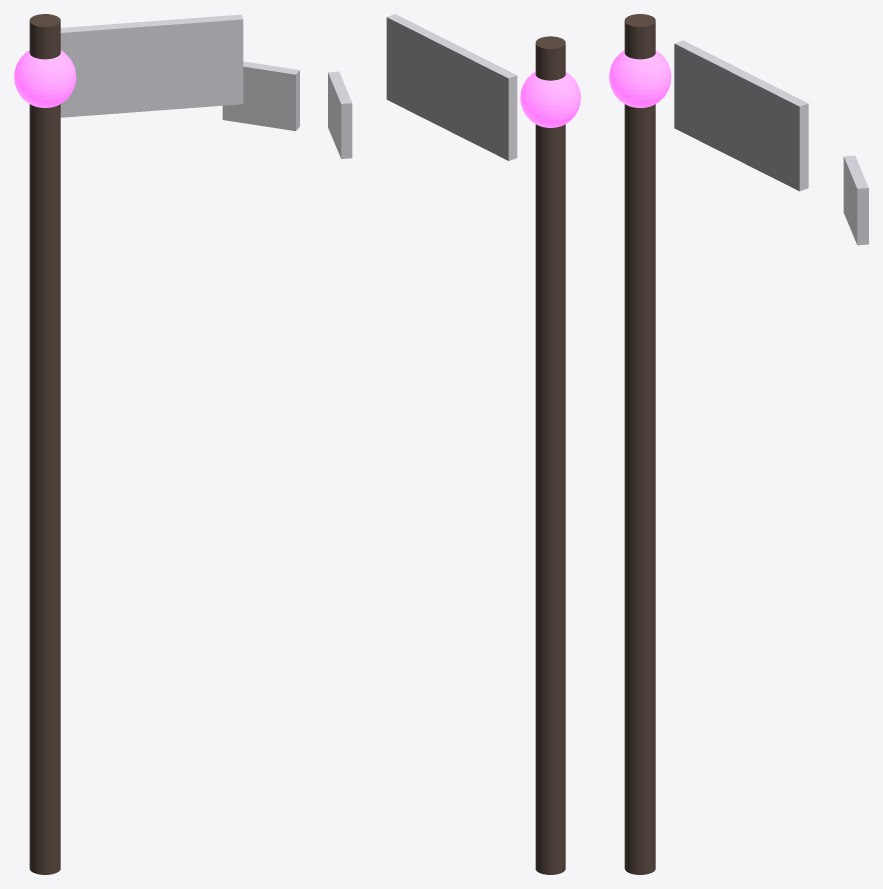
File: scythe.glb
The picture shows the model from 3 angles, left to right: view 1: azimuth 30°, elevation 25°; view 2: azimuth 150°, elevation 25°; view 3: azimuth 330°, elevation 25°; orthographic projection. The views are drawn at different scales.
Visible parts, largest first — view 1: Handle, Blade, BladeTip, GlowOrb; view 2: Handle, Blade, GlowOrb, BladeTip; view 3: Handle, Blade, GlowOrb, BladeTip.
Boxes of the visible parts, left/top/right/bottom form: Handle: left=29, top=14, right=60, bottom=874; Blade: left=60, top=14, right=243, bottom=117; BladeTip: left=222, top=61, right=299, bottom=131; GlowOrb: left=14, top=50, right=76, bottom=107; Handle: left=535, top=36, right=565, bottom=874; Blade: left=386, top=14, right=517, bottom=160; GlowOrb: left=520, top=72, right=580, bottom=127; BladeTip: left=328, top=71, right=352, bottom=158; Handle: left=624, top=14, right=655, bottom=874; Blade: left=674, top=40, right=808, bottom=191; GlowOrb: left=609, top=50, right=671, bottom=107; BladeTip: left=843, top=155, right=868, bottom=245.
Bounding box in the file's own units: 0.3979 × 1.2 × 0.0996.
